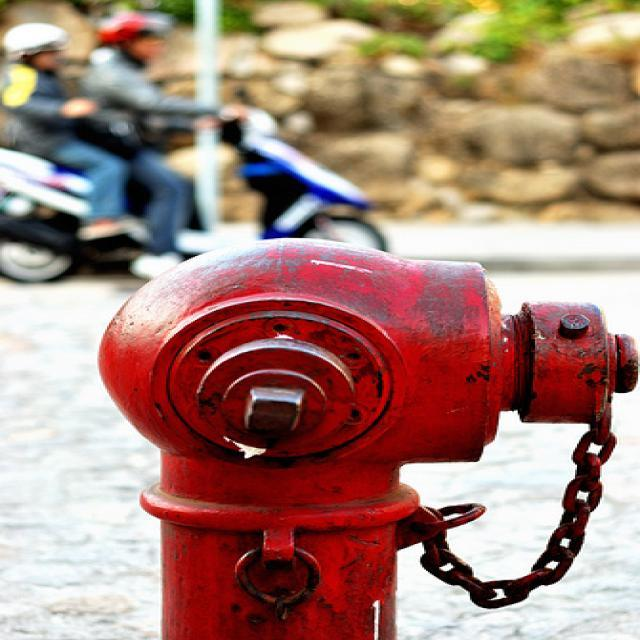fire_hydrant: (109, 236, 640, 632)
